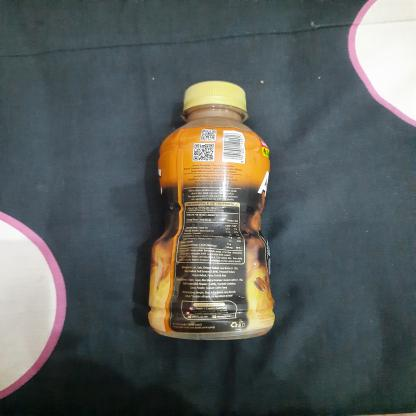bottle: (138, 78, 282, 350)
